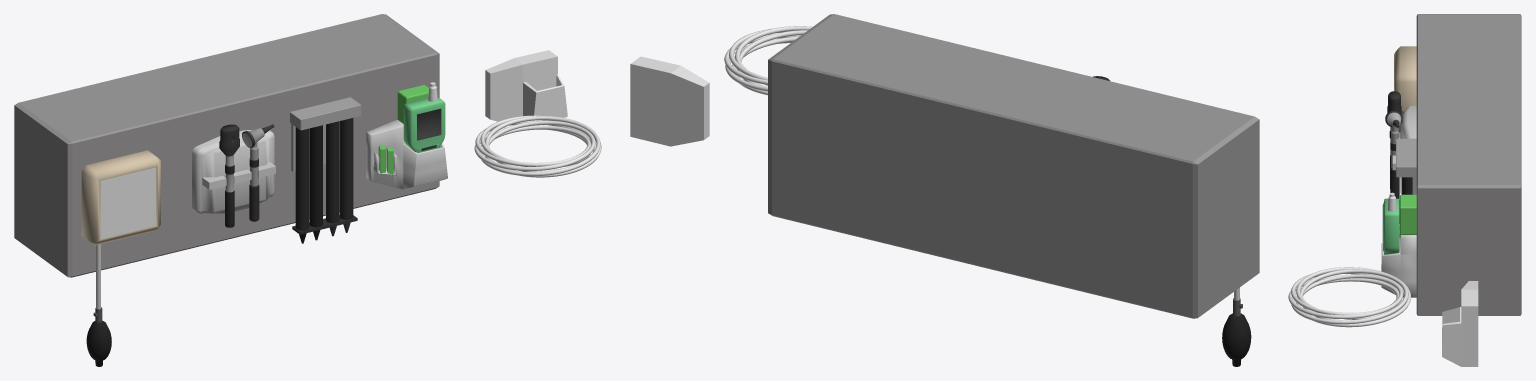
File: vitalsequipmentV1.fbx
The picture shows the model from 3 angles, left to right: view 1: azimuth 30°, elevation 25°; view 2: azimuth 150°, elevation 25°; view 3: azimuth 270°, elevation 25°; orthographic projection. The views are drawn at different scales.
Parts seen in each view (by area): view 1: Cube, Cube.009, Torus Knot 6 x 4, Cube.002, Cube.008, Plane, Cube.001, Cube.010, Cube.006, Cylinder.002, Cylinder.004, Cylinder.003 (+5 smaller); view 2: Cube, Cube.009, Torus Knot 6 x 4, Sphere; view 3: Cube, Torus Knot 6 x 4, Cube.009, Cube.008, Cube.001, Cube.006, Cube.010, Cube.011, Cube.002, Cylinder.001, Cylinder, Cone.
Part boxes in pixels (x1,y1,x2,y2): Cube: (14, 14, 439, 277); Cube.009: (485, 50, 567, 125); Torus Knot 6 x 4: (474, 115, 601, 177); Cube.002: (192, 130, 274, 214); Cube.008: (366, 120, 447, 189); Plane: (100, 167, 156, 238); Cube.001: (81, 150, 160, 245); Cube.010: (403, 97, 445, 152); Cube.006: (290, 97, 361, 171); Cylinder.002: (295, 127, 309, 230); Cylinder.004: (340, 118, 353, 219); Cylinder.003: (309, 125, 322, 227); Cube: (768, 14, 1259, 318); Cube.009: (630, 56, 709, 146); Torus Knot 6 x 4: (724, 26, 812, 95); Sphere: (1222, 313, 1251, 366); Cube: (1416, 14, 1521, 315); Torus Knot 6 x 4: (1288, 267, 1410, 327); Cube.009: (1442, 281, 1478, 366); Cube.008: (1381, 235, 1416, 297); Cube.001: (1394, 46, 1416, 132); Cube.006: (1396, 138, 1416, 194); Cube.010: (1382, 198, 1399, 254); Cube.011: (1400, 194, 1416, 234); Cube.002: (1400, 105, 1416, 194); Cylinder.001: (1390, 126, 1399, 199); Cylinder: (1387, 91, 1401, 188); Cone: (1385, 110, 1402, 127).
Bounding box in the file's own units: 1086 × 457 × 445.
